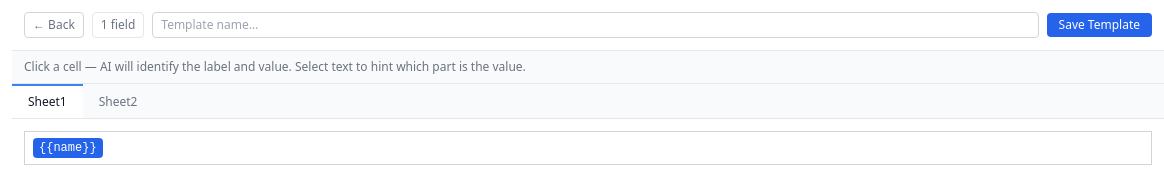
Scenario: Review XLSX — sheet tabs › applies chip overlay to active sheet content after tab switch
Click the tab "Sheet2" at point(118, 101), box left=83, top=84, right=154, bottom=118
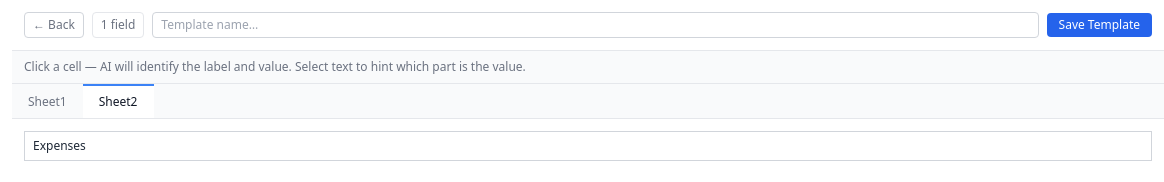
Check: the element with test id "doc-viewer" reads "Expenses", box left=33, top=137, right=86, bottom=154
Click the tab "Sheet1" at point(47, 101), box left=12, top=84, right=83, bottom=118
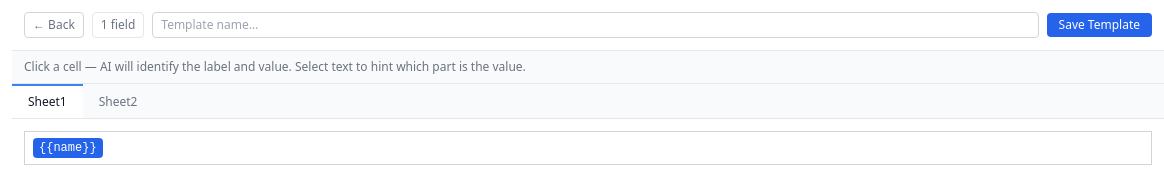
Check: the text "{{name}}" is shown, box left=33, top=138, right=103, bottom=158
Check: the element with test id "doc-viewer" reads "{{name}}", box left=39, top=141, right=97, bottom=155
